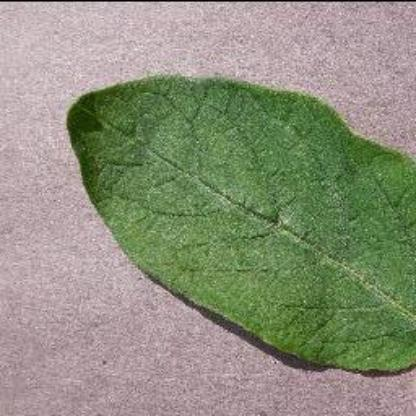Healthy-plant: (49, 25, 415, 399)
